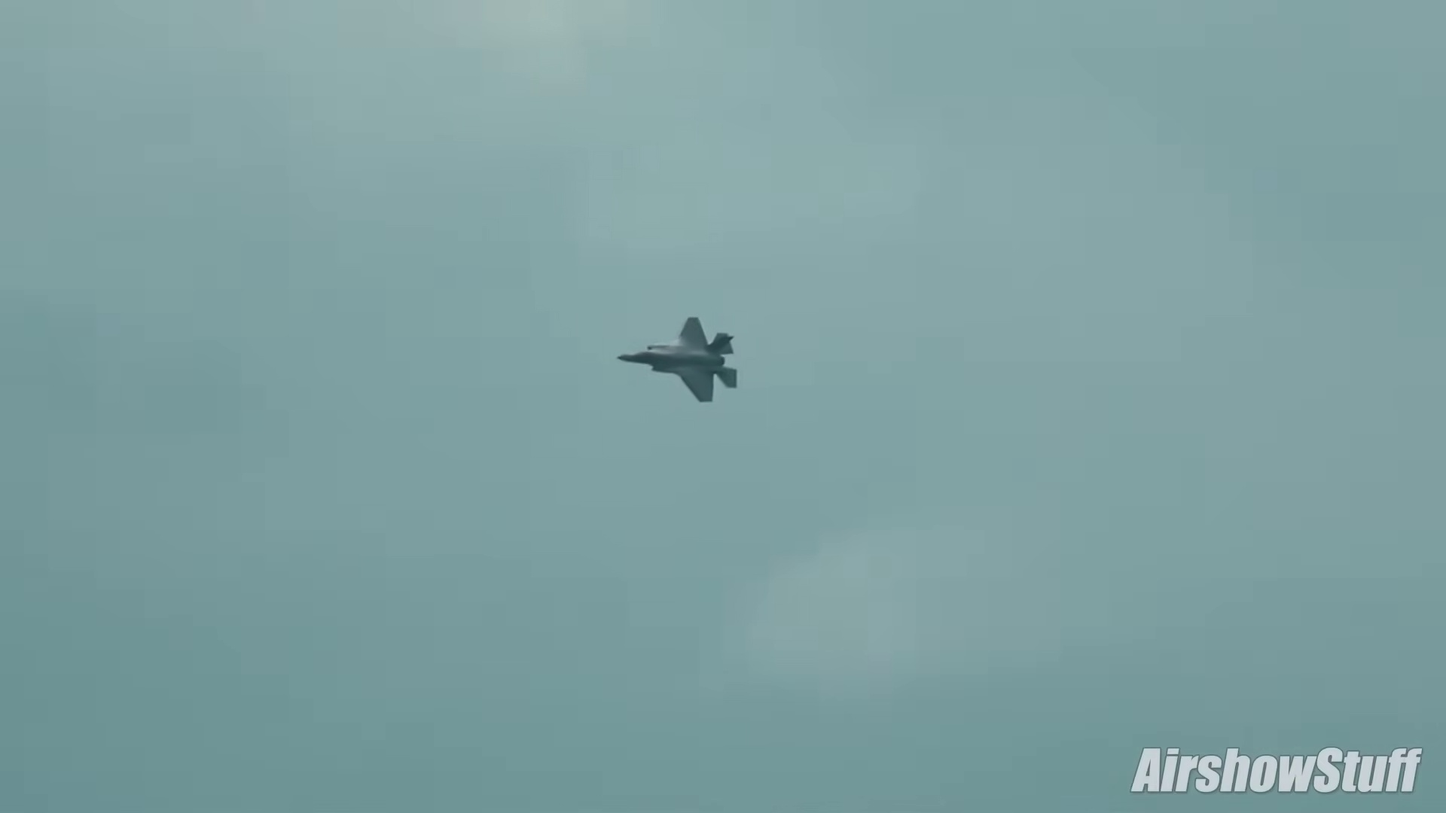F35: (614, 314, 742, 407)
